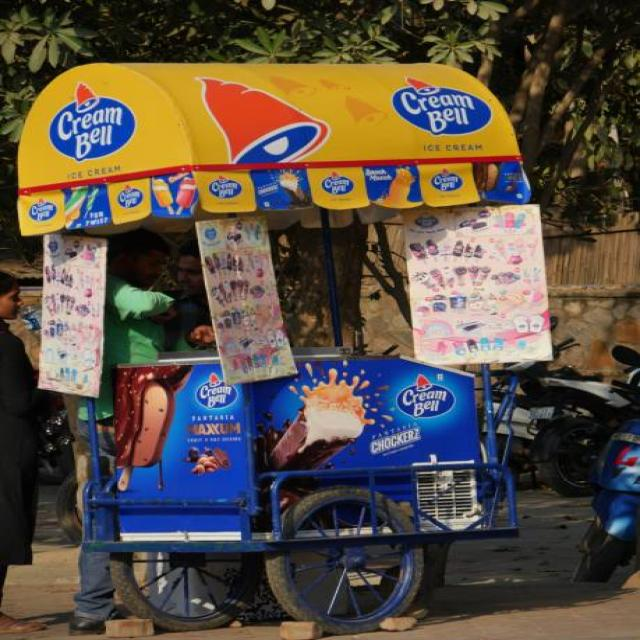Emperan: (7, 53, 563, 636)
